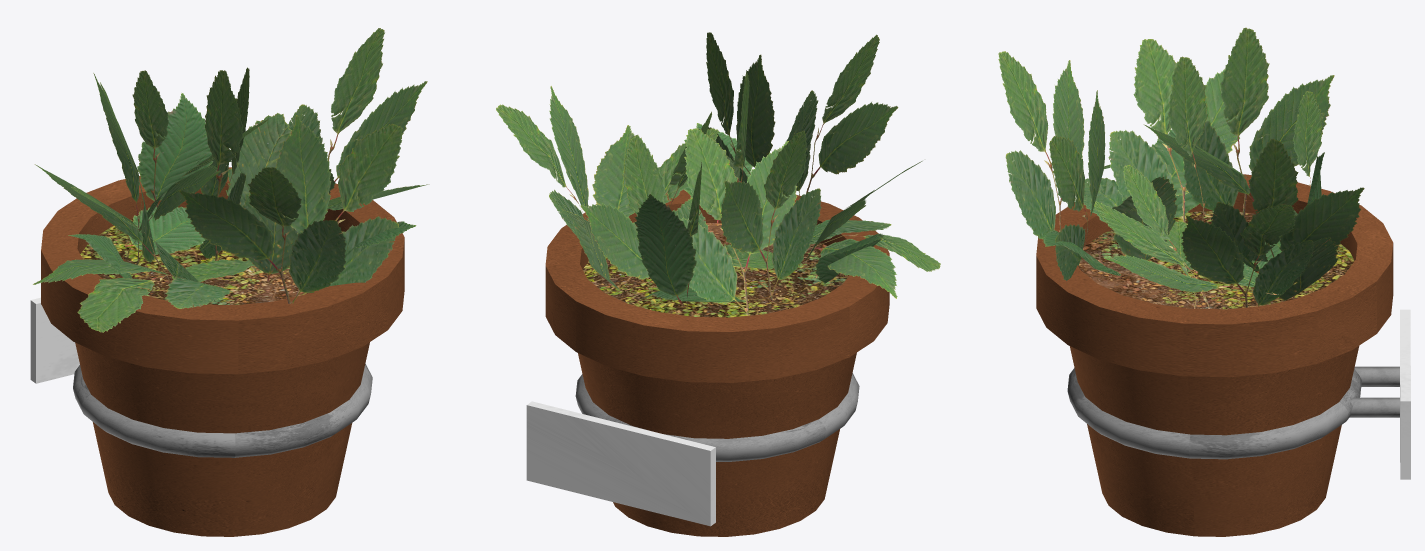
The model's file is Wall Plant 3.fbx.
3 views of the same model, side by side, from view 1: azimuth 30°, elevation 25°; view 2: azimuth 150°, elevation 25°; view 3: azimuth 270°, elevation 25° (orthographic). The views are drawn at different scales.
Parts seen in each view (by area): view 1: Wall Plant 3; view 2: Wall Plant 3; view 3: Wall Plant 3.
Boxes of the visible parts, bbox=[...] form: Wall Plant 3: bbox=[30, 28, 429, 536]; Wall Plant 3: bbox=[496, 32, 940, 536]; Wall Plant 3: bbox=[998, 27, 1410, 536].
Size of the model in its own units: 35.45 by 37.01 by 33.64.
